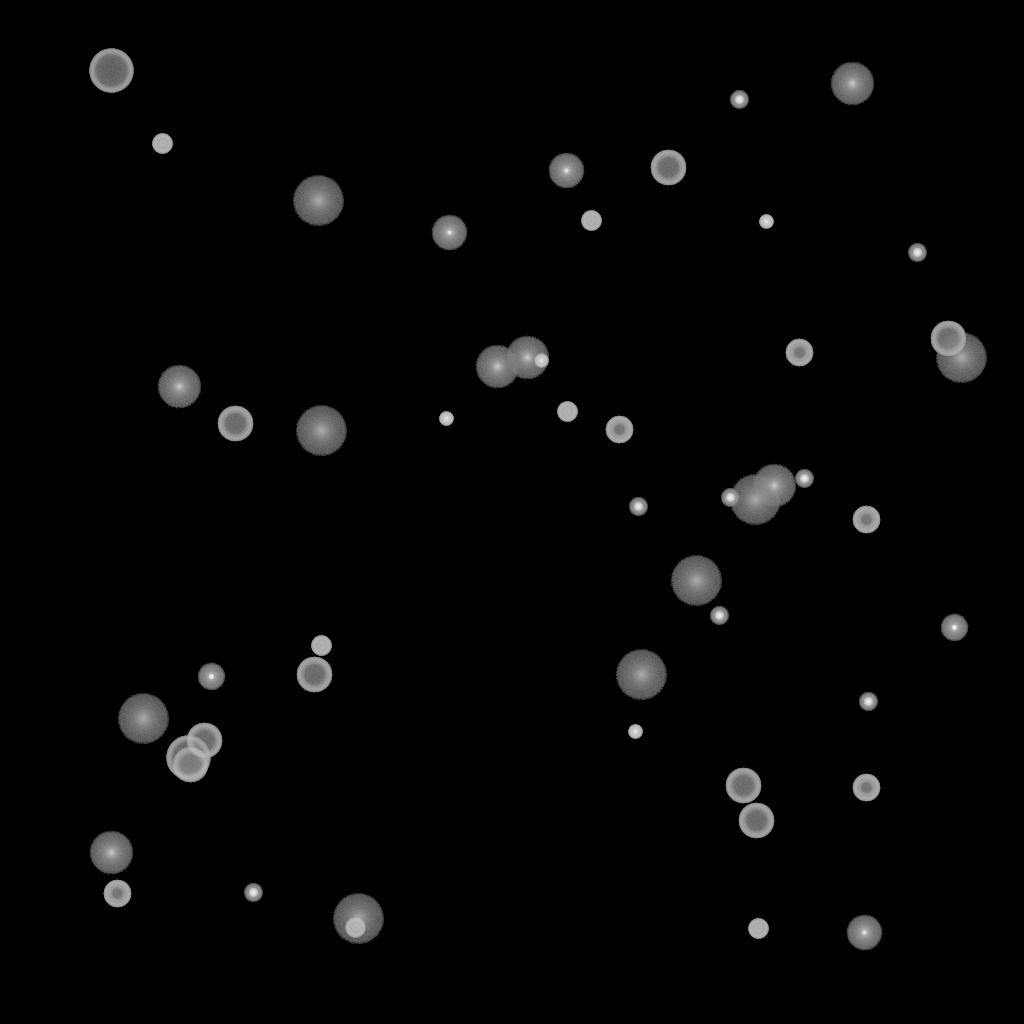depth:-10: (940, 614, 968, 642), (197, 663, 225, 691)
depth:-20: (795, 470, 813, 488), (629, 498, 647, 516), (244, 884, 262, 902), (859, 693, 877, 711), (908, 244, 926, 262), (710, 607, 728, 625), (730, 91, 748, 109), (721, 489, 739, 507)
depth:-30: (534, 354, 548, 368), (628, 725, 642, 739), (439, 412, 453, 426), (759, 215, 773, 229)
depth:-40: (152, 134, 172, 154), (345, 918, 365, 938), (748, 919, 768, 939), (311, 636, 331, 656), (557, 402, 577, 422), (581, 211, 601, 231)
depth:-50: (103, 880, 131, 908), (852, 774, 880, 802), (605, 416, 633, 444), (785, 339, 813, 367), (852, 506, 880, 534)
depth:-60: (738, 803, 774, 839), (217, 406, 253, 442), (186, 723, 222, 759), (296, 657, 332, 693), (725, 768, 761, 804), (930, 321, 966, 357), (650, 150, 686, 186), (172, 747, 208, 783)
depth:-70: (89, 49, 133, 93), (166, 736, 210, 780)
depth:0: (548, 153, 584, 189), (431, 215, 467, 251), (846, 915, 882, 951)
depth:10: (89, 831, 133, 875), (752, 464, 796, 508), (157, 365, 201, 409), (830, 62, 874, 106), (505, 336, 549, 380), (475, 345, 519, 389)
depth:20: (729, 475, 781, 525), (332, 894, 384, 944), (615, 650, 667, 700), (292, 176, 344, 226), (117, 694, 169, 744), (935, 333, 987, 383), (670, 556, 722, 606), (295, 406, 347, 456)
